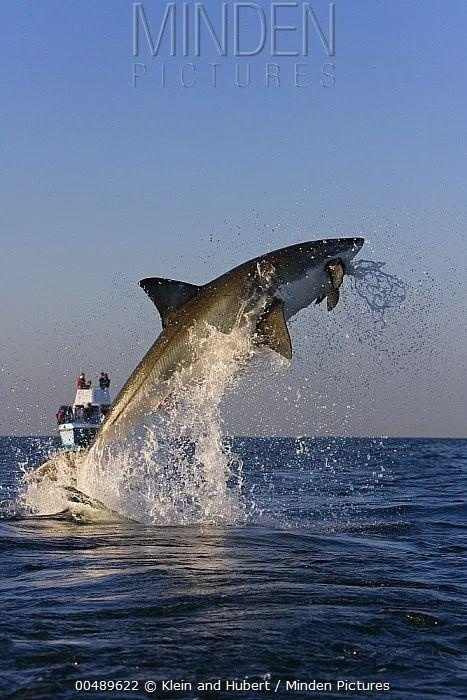fish: (58, 231, 373, 513)
otherboat: (43, 362, 138, 455)
